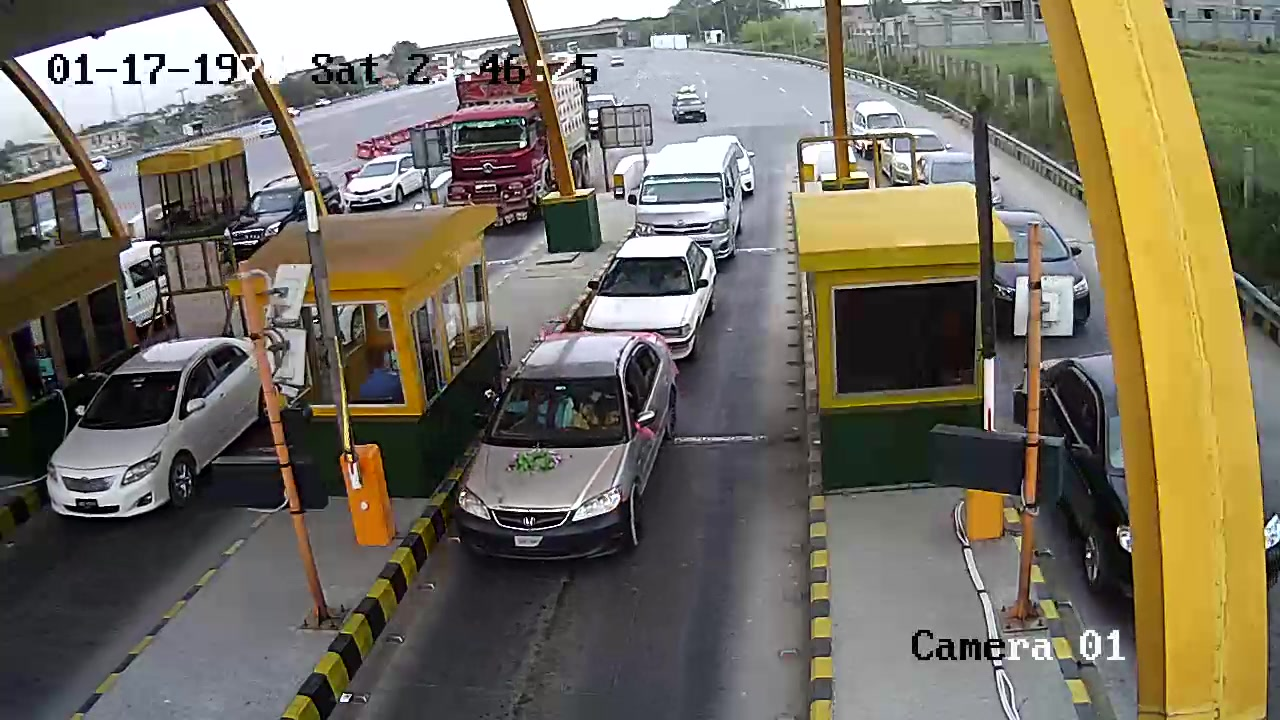F1: (448, 326, 687, 568)
